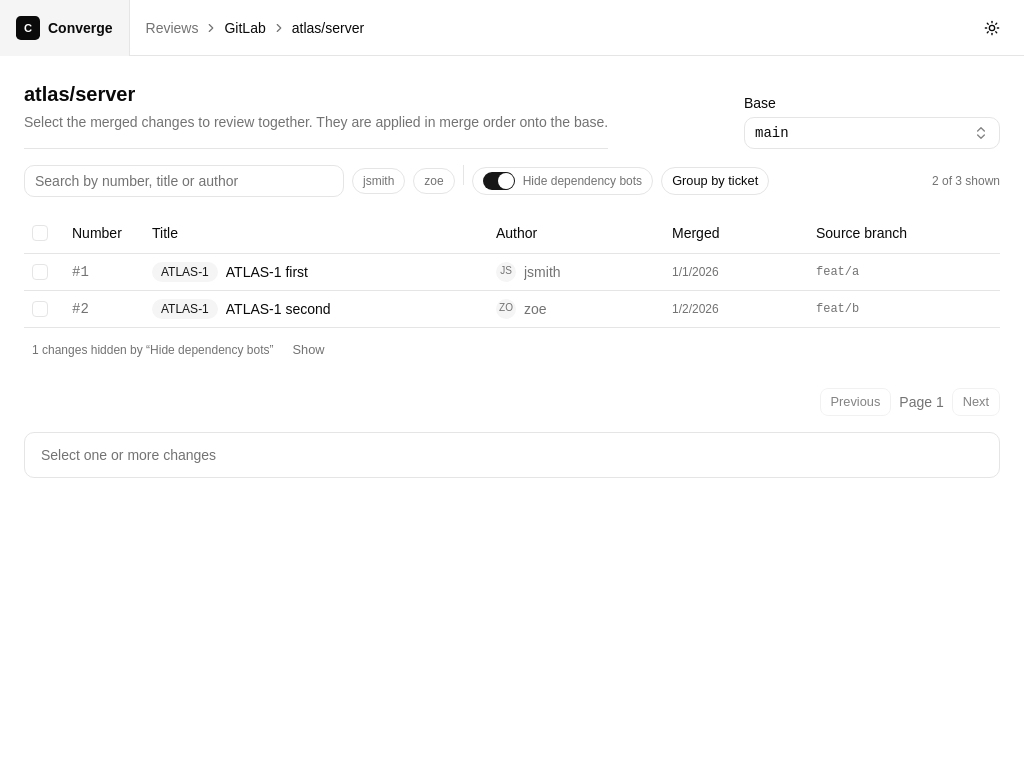
Test: SelectChangesPage › groups by ticket and selects a whole group
Expected: the text "ATLAS-1 first" is shown, 226,262 -> 308,282
Click the button "Group by ticket": x=715, y=181 661,167 -> 769,195
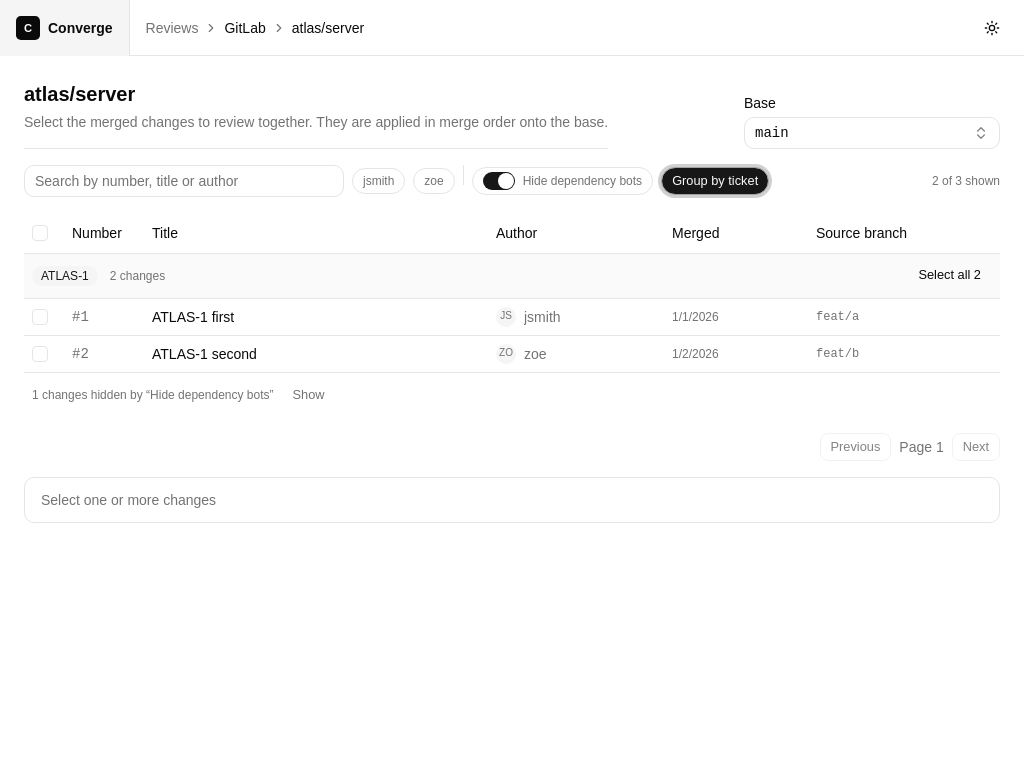
Click the button "Select all 2": x=950, y=276 907,262 -> 992,290
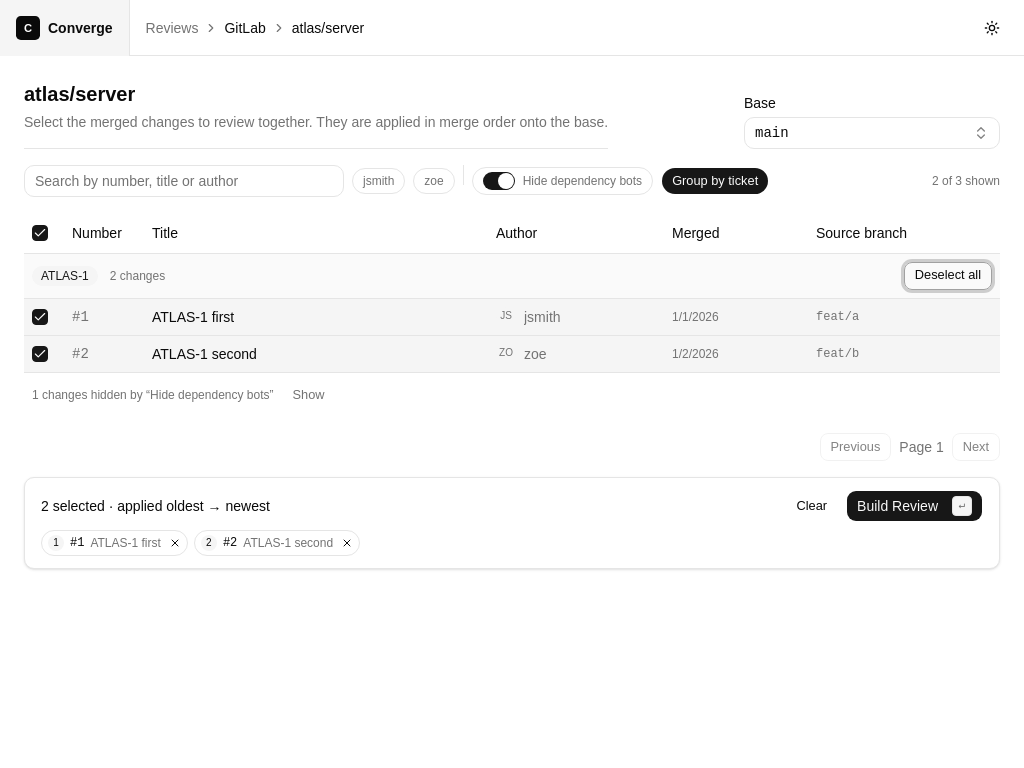
Expected: the text "2 selected · applied oldest → newest" is shown, 41,496 -> 270,516
